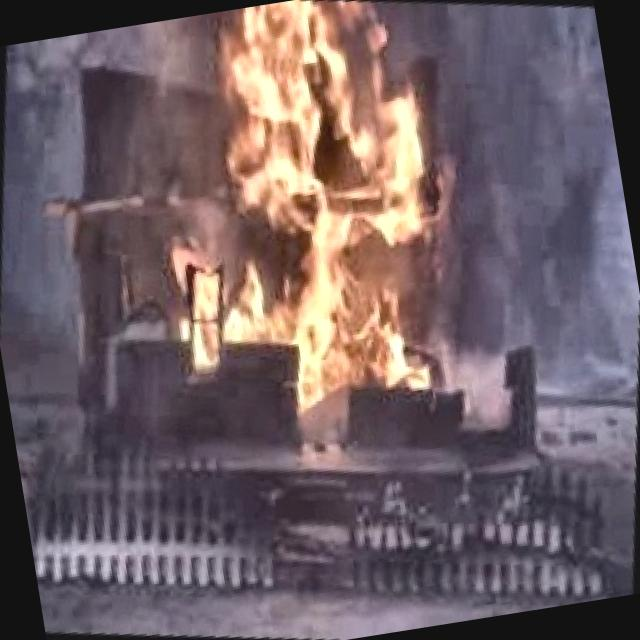fire: (83, 0, 559, 483)
